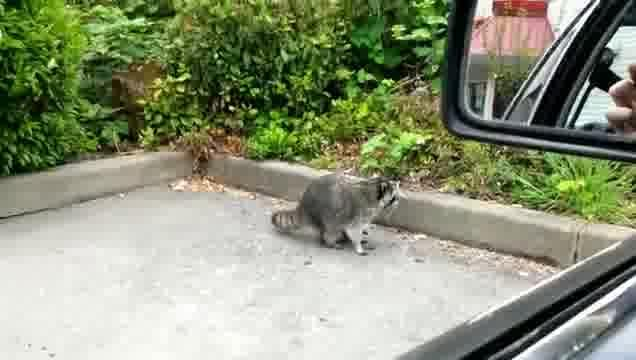raccoon: (267, 167, 406, 260)
